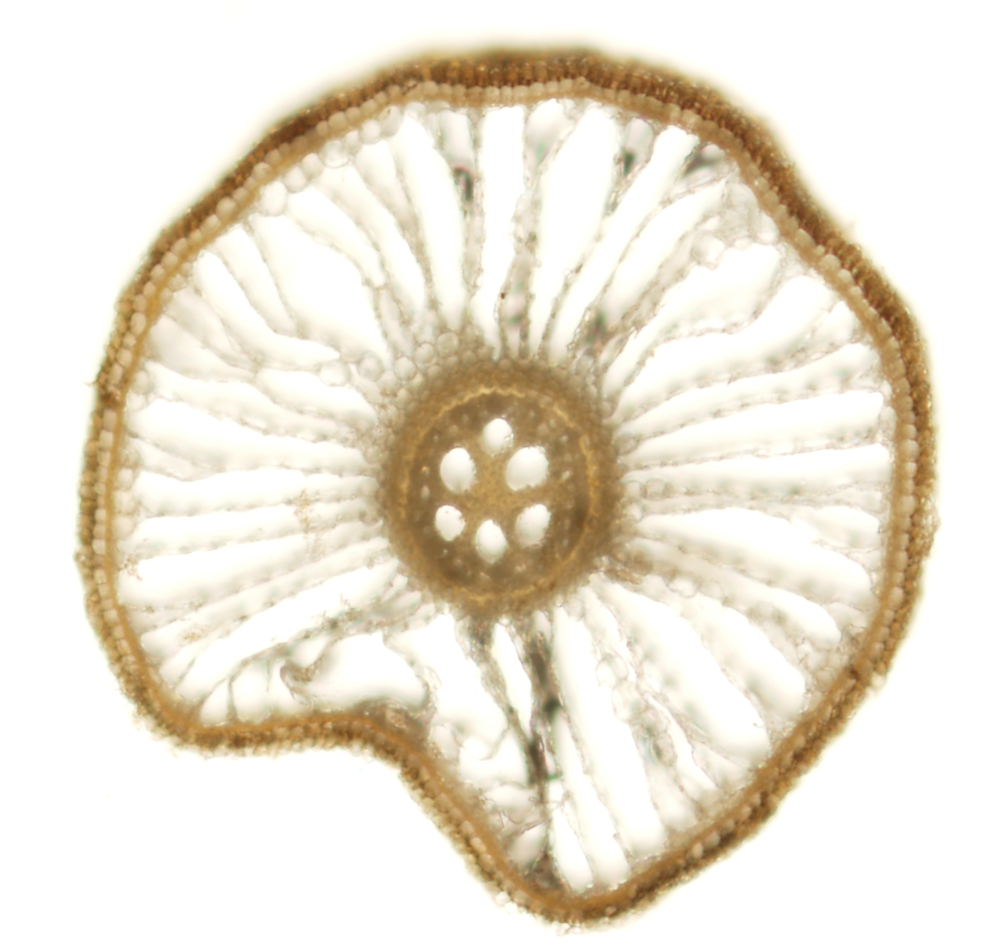lm: (505, 446, 549, 491), (514, 503, 551, 550), (440, 447, 476, 493), (474, 519, 509, 564), (480, 418, 514, 457), (434, 505, 466, 542)
